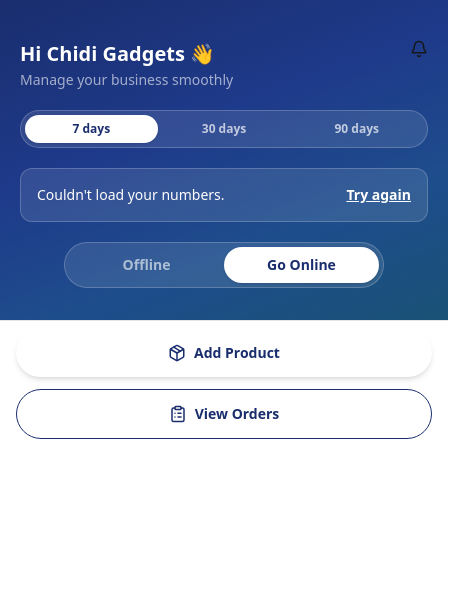
Test: Seller dashboard › hides the best seller until something sells, and offers a retry when the numbers fail
This screenshot has width=465, height=594.
Check: the text "Couldn't load your numbers. Try again" is shown, box [20,168,428,222]
What coordinates should you click on to do the following:
click the button "Try again"
I would click on:
 (379, 195)
Its box is [346,185,411,205].
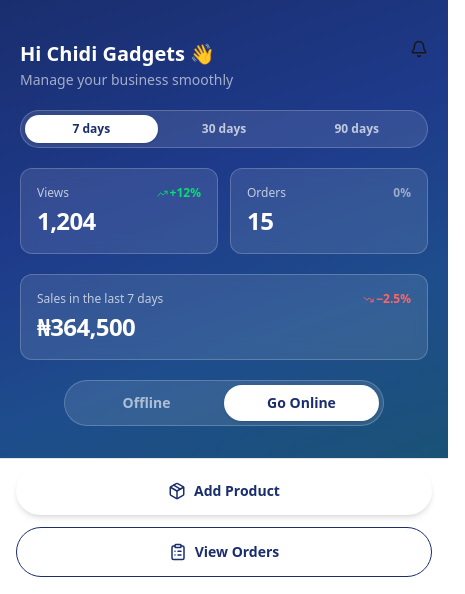
Check: the text "1,204" is shown, box [37,204,96,237]
